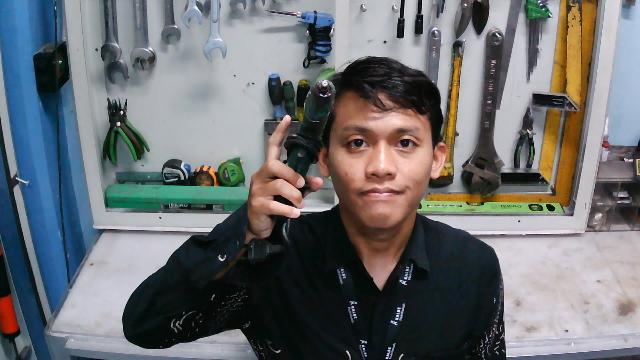gun_lem: (266, 74, 341, 232)
